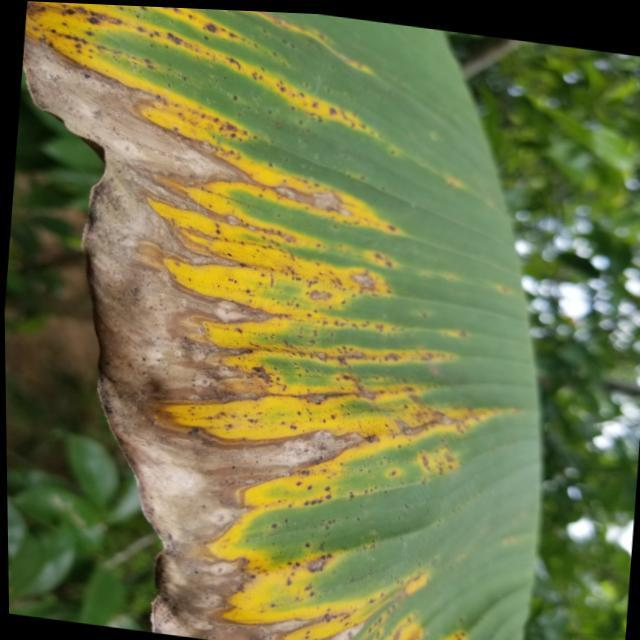Early_rust: (10, 0, 506, 640)
